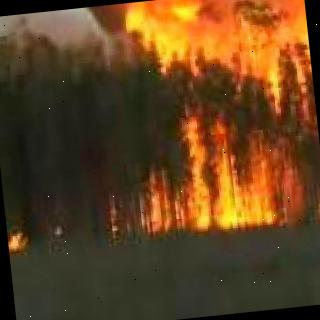fire: (115, 0, 320, 235), (6, 223, 33, 251)
